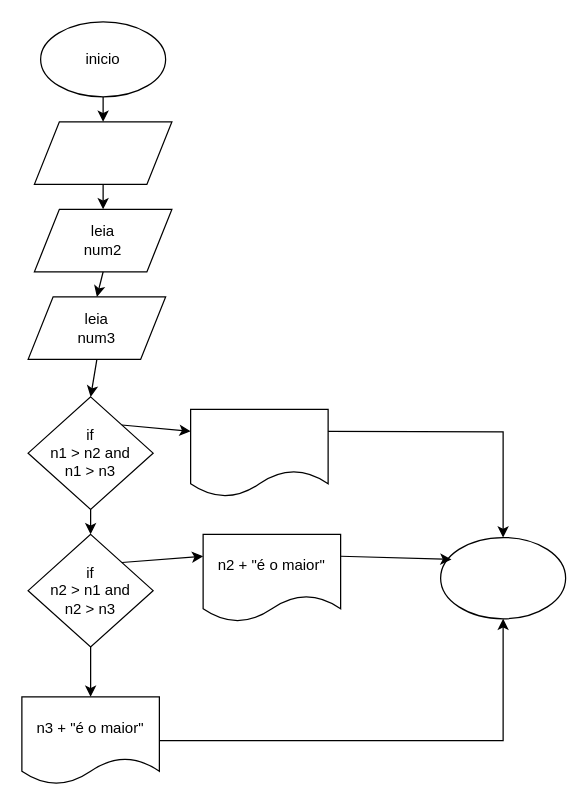
The diagram is 588 pixels wide and 806 high, and some of its shapes have lost their labels. The centre of each missing label's shape, as x and y in pixels:
fim: point (502, 577)
leia num1: point (102, 152)
n1 + "é o maior": point (258, 452)
